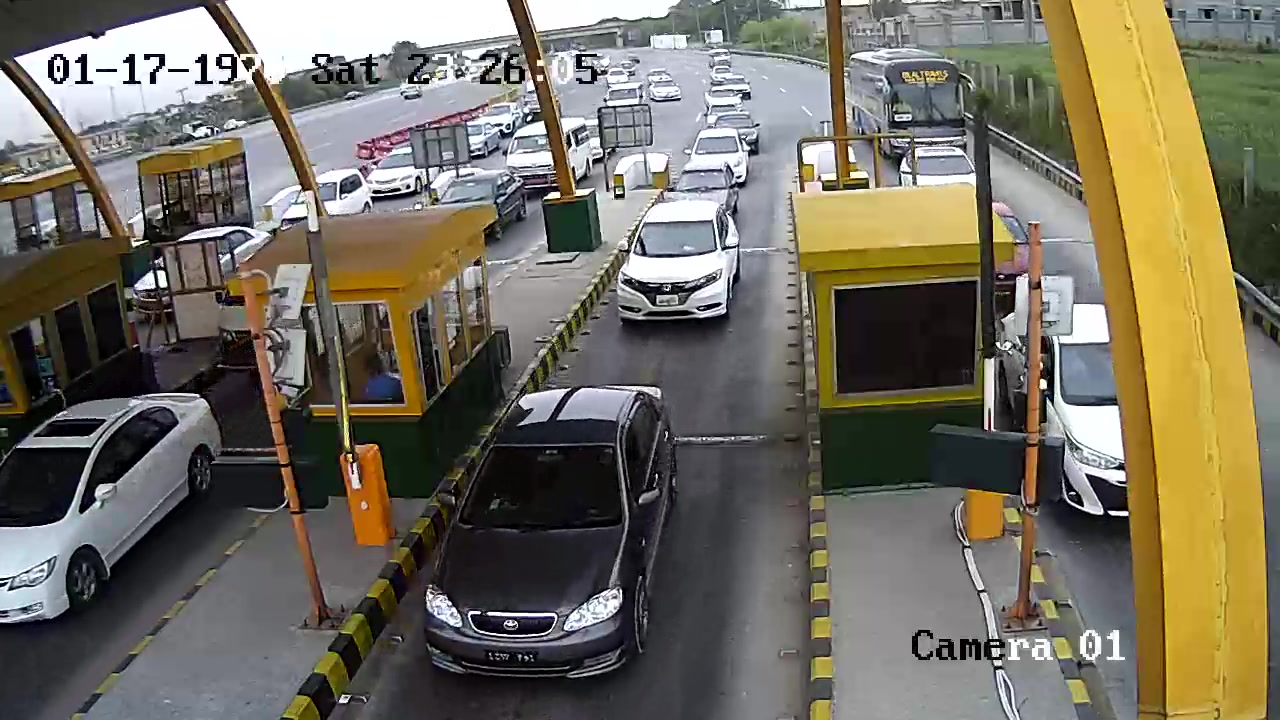F1: (415, 368, 697, 685)
